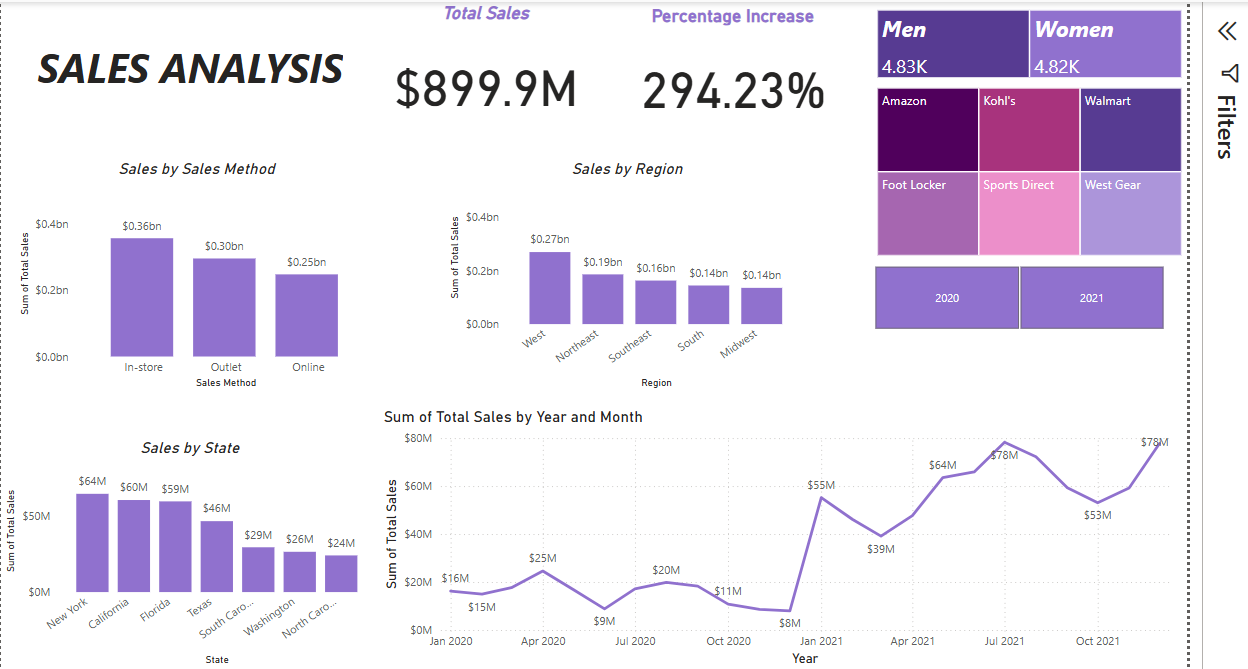

The dashboard page shown, as its layout file describes it:
{"tool":"powerbi","page":{"name":"Sales Analysis","canvas":[1280,720],"ordinal":1},"visuals":[{"type":"treemap","fields":{"Group":["Table 1 (Data Sales Adidas).Product Gender"],"Values":["CountNonNull(Table 1 (Data Sales Adidas).Product Gender)"]},"box":[969.5,64.3,309.9,86.9],"z":0},{"type":"treemap","fields":{"Values":["Count(Table 1 (Data Sales Adidas).Retailer)"],"Details":["Table 1 (Data Sales Adidas).Retailer"]},"box":[969.5,151.2,309.9,192.8],"z":1000},{"type":"slicer","fields":{"Values":["Table 1 (Data Sales Adidas).Invoice Date.Variation.Date Hierarchy.Year"]},"box":[969.5,343.9,309.9,92.6],"z":2000},{"type":"card","title":"Total Sales","fields":{"Values":["Sum(Table 1 (Data Sales Adidas).Total Sales)"]},"box":[412,64.3,258.9,105.8],"z":3000},{"type":"card","title":"Total Sales","fields":{"Values":["Sum(Table 1 (Data Sales Adidas).Total Sales)"]},"box":[670.9,64.3,298.6,105.8],"z":4000},{"type":"textbox","box":[0,64.3,412,73.7],"z":5000},{"type":"pieChart","title":"Sales by Sales Method","fields":{"Category":["Table 1 (Data Sales Adidas).Sales Method"],"Y":["Sum(Table 1 (Data Sales Adidas).Total Sales)"]},"box":[0,449.8,444.1,270.2],"z":6000},{"type":"clusteredColumnChart","title":"Region wise Sales","fields":{"Y":["Sum(Table 1 (Data Sales Adidas).Total Sales)"],"Category":["Table 1 (Data Sales Adidas).Region"]},"box":[463,192.8,447.9,243.8],"z":7000},{"type":"clusteredColumnChart","title":"Product wise Sales","fields":{"Y":["Sum(Table 1 (Data Sales Adidas).Total Sales)"],"Category":["Table 1 (Data Sales Adidas).Product"]},"box":[0,206,444.1,243.8],"z":8000},{"type":"slicer","fields":{"Values":["Table 1 (Data Sales Adidas).State"]},"box":[0,138,204.1,54.8],"z":9000},{"type":"lineChart","title":"Sales Timeline","fields":{"Category":["Table 1 (Data Sales Adidas).Invoice Date.Variation.Date Hierarchy.Year","Table 1 (Data Sales Adidas).Invoice Date.Variation.Date Hierarchy.Month"],"Y":["Sum(Table 1 (Data Sales Adidas).Total Sales)"]},"box":[444.1,436.5,835.3,283.5],"z":10000},{"type":"slicer","fields":{"Values":["Table 1 (Data Sales Adidas).Invoice Date.Variation.Date Hierarchy.Year","Table 1 (Data Sales Adidas).Invoice Date.Variation.Date Hierarchy.Month","Table 1 (Data Sales Adidas).Invoice Date.Variation.Date Hierarchy.Day"]},"box":[204.1,138,240,54.8],"z":11000}]}

Visuals, with their boxes on the page's 1280x720 design canvas (x1, y1, x2, y2). These are canvas units, not pixel positions in the 1248x669 screenshot, which may show the page scaled, cropped or inside an application window:
treemap - Table 1 (Data Sales Adidas).Product Gender x CountNonNull(Table 1 (Data Sales Adidas).Product Gender): bbox(970, 64, 1279, 151)
treemap - Count(Table 1 (Data Sales Adidas).Retailer) x Table 1 (Data Sales Adidas).Retailer: bbox(970, 151, 1279, 344)
slicer - Table 1 (Data Sales Adidas).Invoice Date.Variation.Date Hierarchy.Year: bbox(970, 344, 1279, 436)
"Total Sales" card: bbox(412, 64, 671, 170)
"Total Sales" card: bbox(671, 64, 970, 170)
textbox: bbox(0, 64, 412, 138)
"Sales by Sales Method" pieChart: bbox(0, 450, 444, 720)
"Region wise Sales" clusteredColumnChart: bbox(463, 193, 911, 437)
"Product wise Sales" clusteredColumnChart: bbox(0, 206, 444, 450)
slicer - Table 1 (Data Sales Adidas).State: bbox(0, 138, 204, 193)
"Sales Timeline" lineChart: bbox(444, 436, 1279, 720)
slicer - Table 1 (Data Sales Adidas).Invoice Date.Variation.Date Hierarchy.Year x Table 1 (Data Sales Adidas).Invoice Date.Variation.Date Hierarchy.Month: bbox(204, 138, 444, 193)
